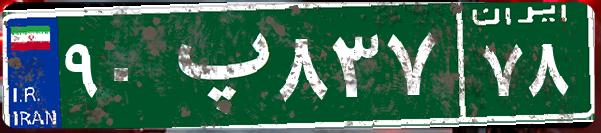0: (110, 28, 158, 105)
3: (330, 28, 385, 110)
7: (385, 28, 445, 110), (475, 38, 525, 113)
8: (273, 28, 330, 110), (525, 38, 570, 115)
9: (57, 26, 110, 107)
پ: (158, 15, 273, 115)
